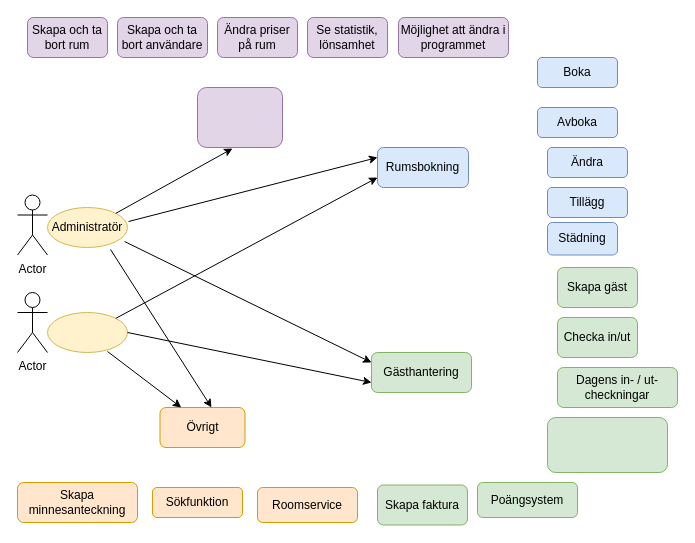
The diagram is 695 pixels wide and 543 high, and some of its shapes have lost their labels. Each missing label, with the centre of its shape:
"Admintjänster (exklusiv)" goes at pixel 239 117.
"Receptionist" goes at pixel 87 332.
"Skriva ut bokningsbekräftelse" goes at pixel 607 444.
